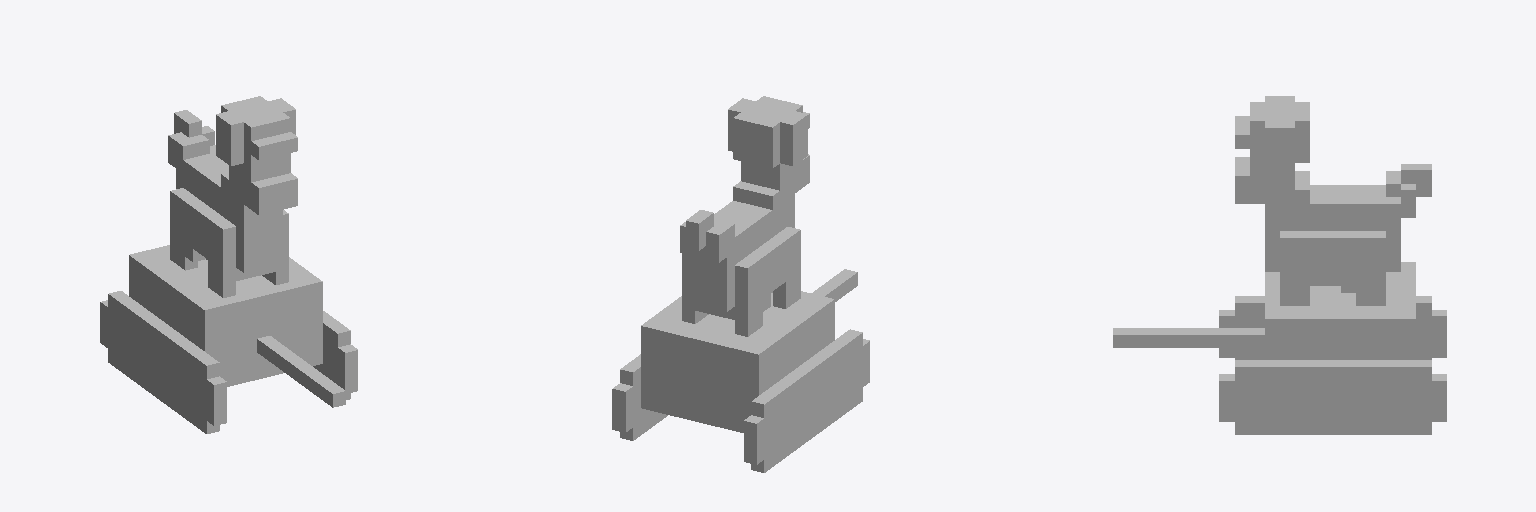
The model's file is MilitaryLlama.obj.
3 views of the same model, side by side, from view 1: azimuth 30°, elevation 25°; view 2: azimuth 150°, elevation 25°; view 3: azimuth 270°, elevation 25° (orthographic).
Bounding box in the file's own units: 11 × 21 × 22.